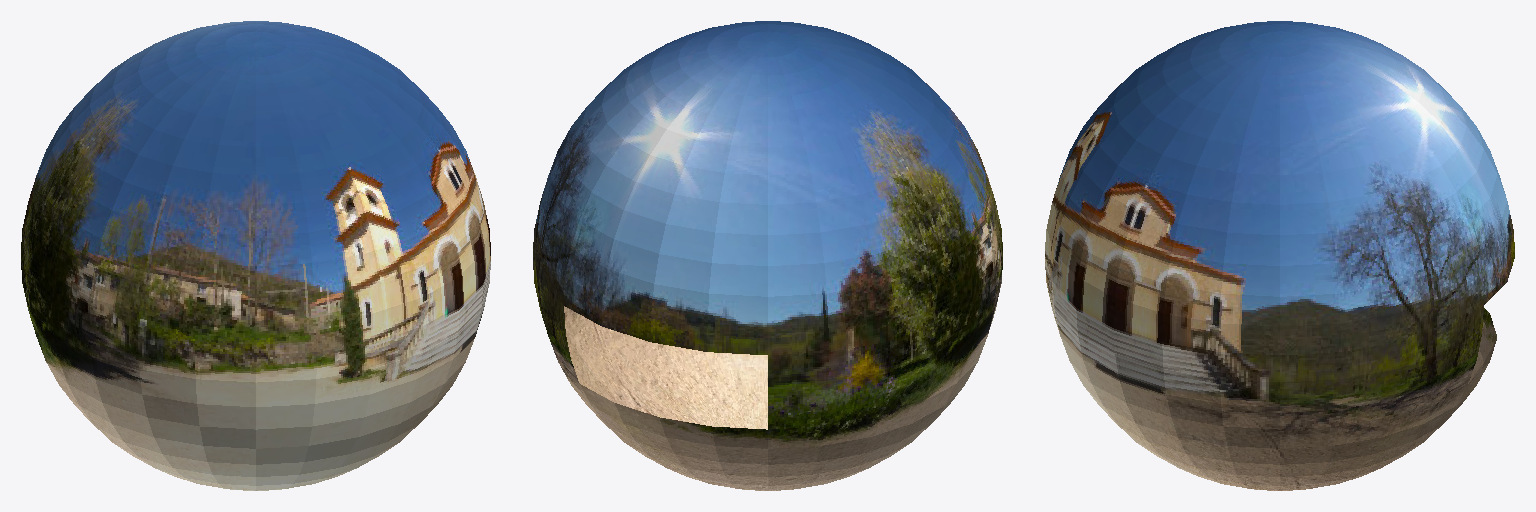
3 renders of one model, left to right at view 1: azimuth 30°, elevation 25°; view 2: azimuth 150°, elevation 25°; view 3: azimuth 270°, elevation 25°, orthographic.
Visible parts, largest first — view 1: ar_room; view 2: ar_room; view 3: ar_room.
Boxes of the visible parts, box(x1,y1,x2,y2) form: ar_room: box(21, 21, 490, 490); ar_room: box(533, 21, 1002, 490); ar_room: box(1045, 21, 1514, 490).
Bounding box in the file's own units: 1 × 1 × 1.
Materials: 1 (1 with a texture image).